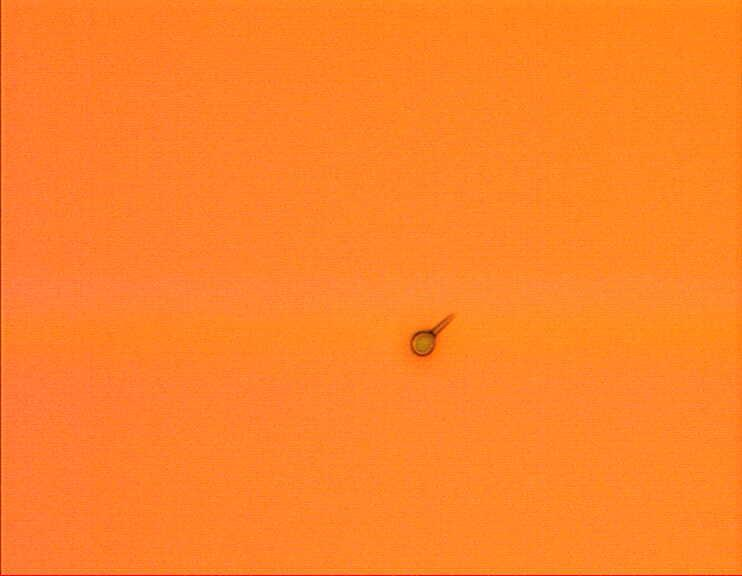PIQ PARTICLE: (399, 300, 467, 368)
